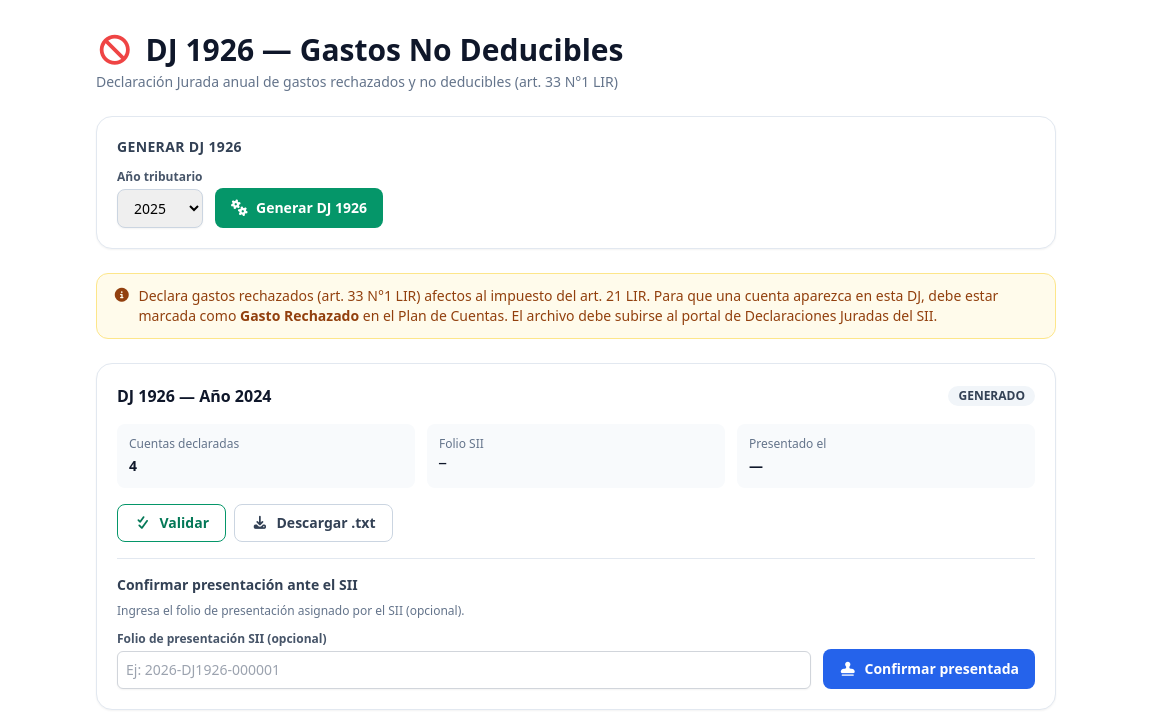
Test: Dj1926 (vista) › handleDescargar muestra mensaje de error cuando falla
Click the button "Descargar .txt".
click(313, 523)  # box x1=234 y1=504 x2=392 y2=542
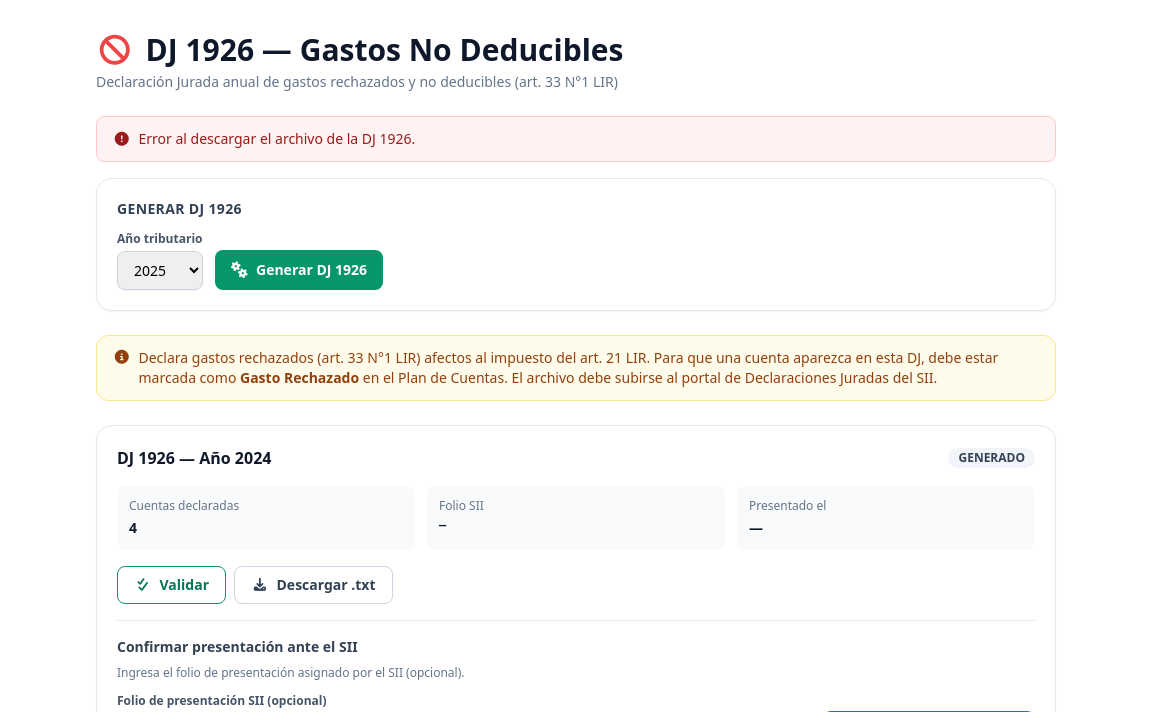
Expected: the text "Error al descargar el archivo de la DJ 1926." is shown, x1=96 y1=116 x2=1056 y2=162
